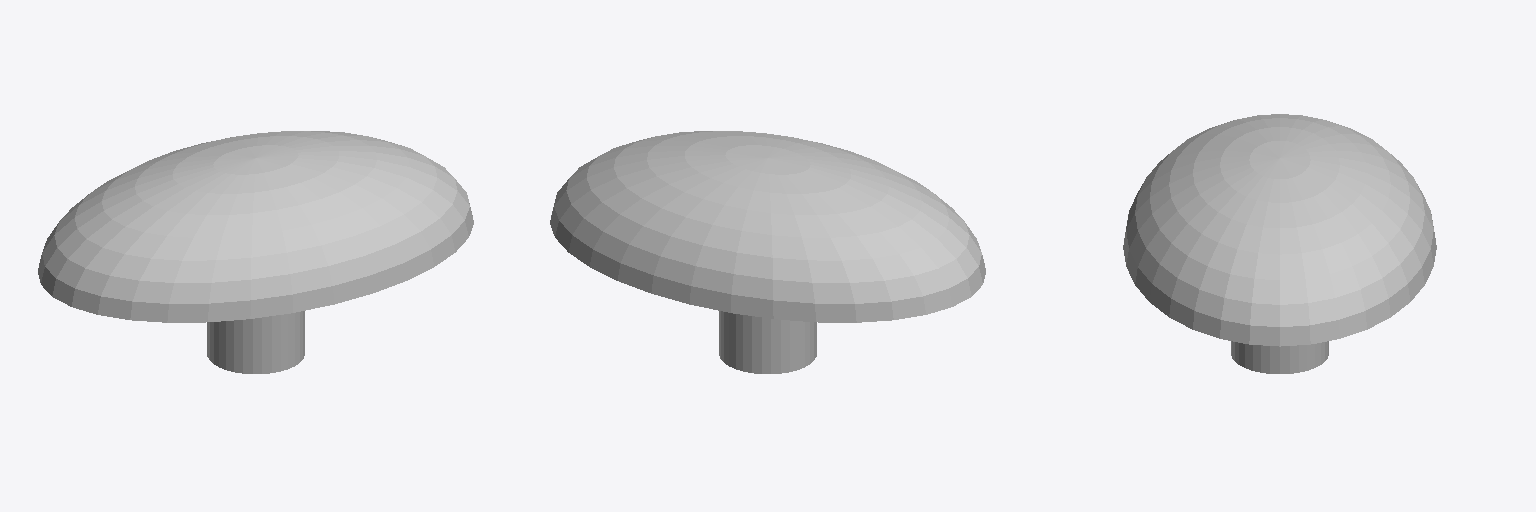
Rendered from mushroom.obj.
The picture shows the model from 3 angles: view 1: azimuth 30°, elevation 25°; view 2: azimuth 150°, elevation 25°; view 3: azimuth 270°, elevation 25°; orthographic projection.
Parts seen in each view (by area): view 1: MushroomCap; view 2: MushroomCap; view 3: MushroomCap.
Boxes of the visible parts, x1,y1,x2,y2 form: MushroomCap: [38, 131, 473, 373]; MushroomCap: [550, 131, 985, 373]; MushroomCap: [1123, 114, 1436, 373].
Size of the model in its own units: 2.4 by 1.1 by 1.6.